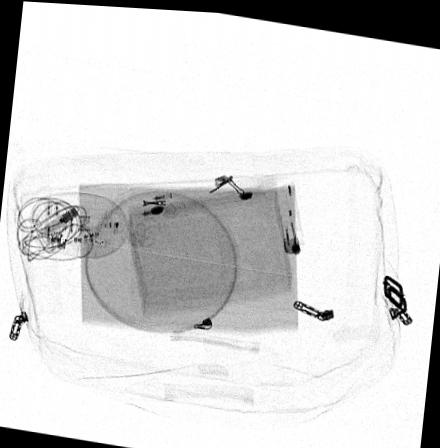Lighter: (273, 177, 305, 251)
